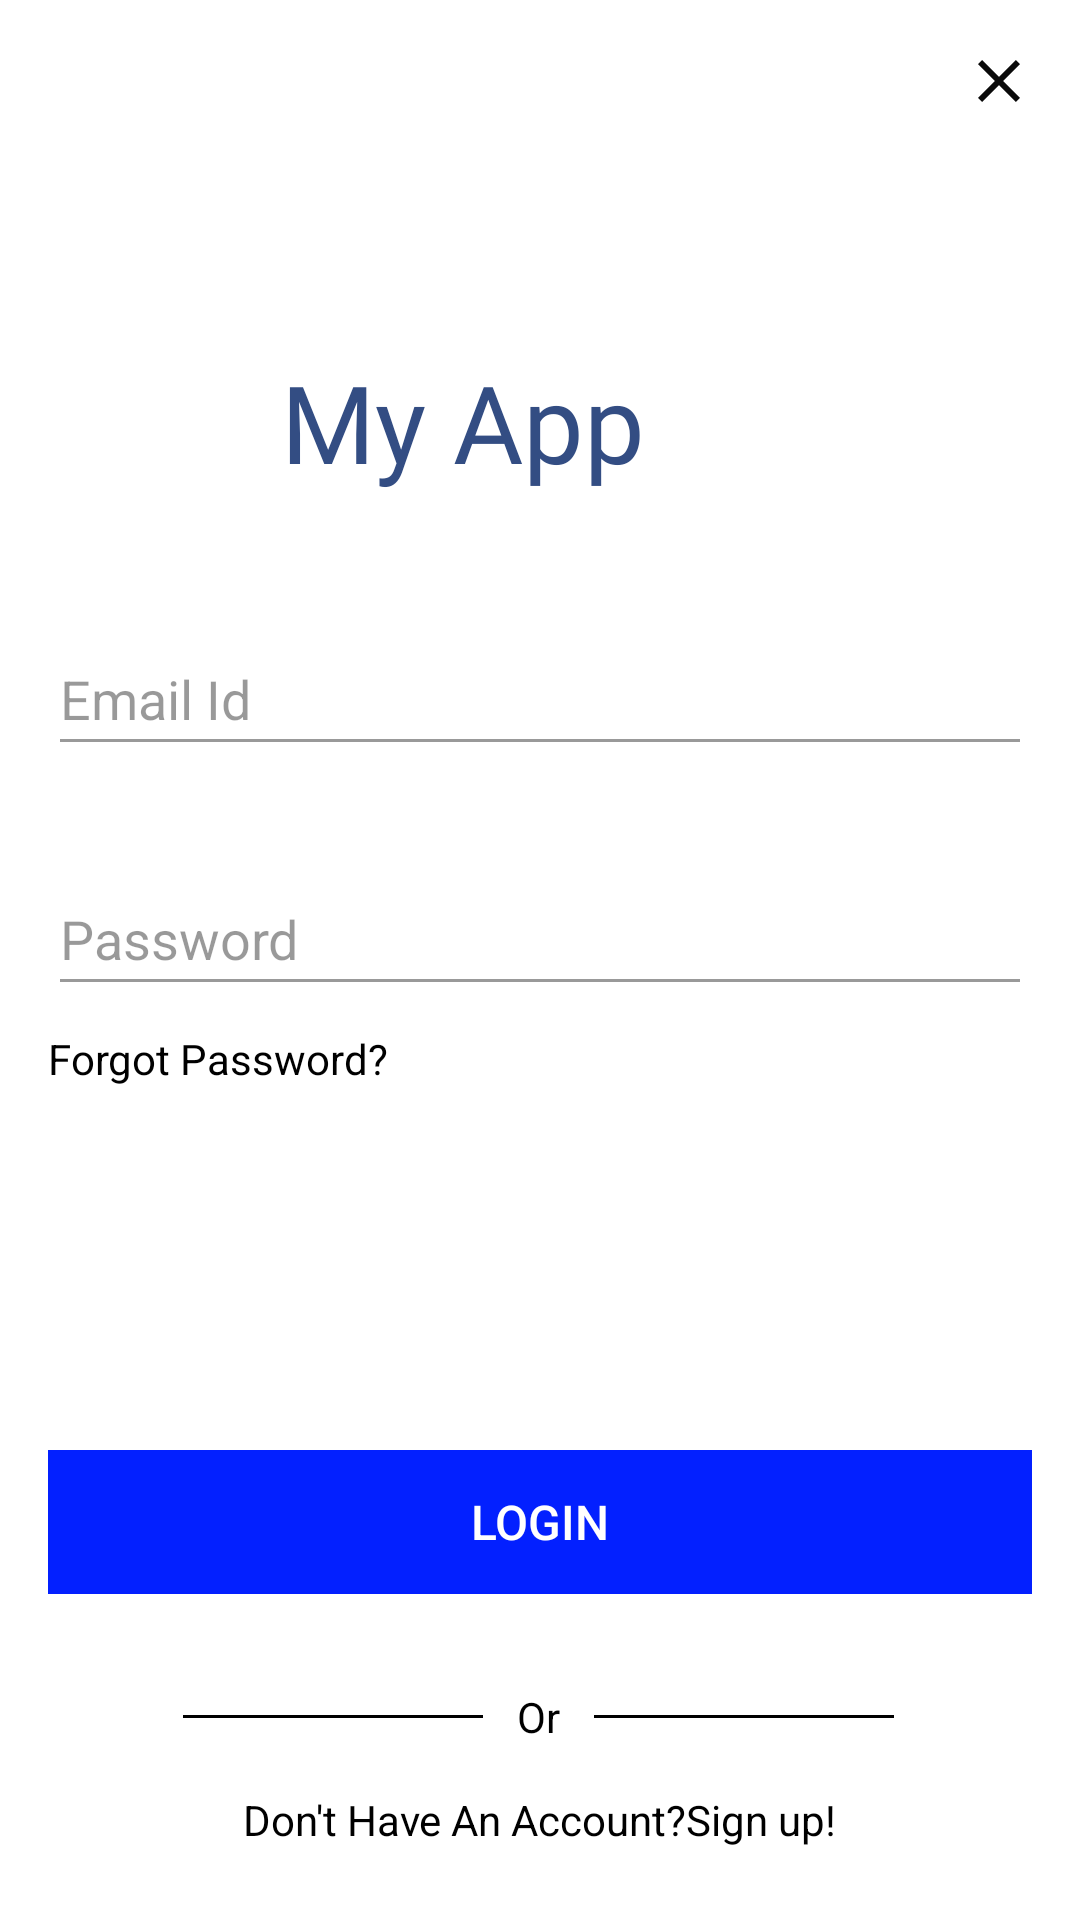

Screen size 1080 x 1920. Icon name, then its box in pixels as bbox=[x1, y1, x2, y2]:
close: bbox=[978, 60, 1020, 102]
